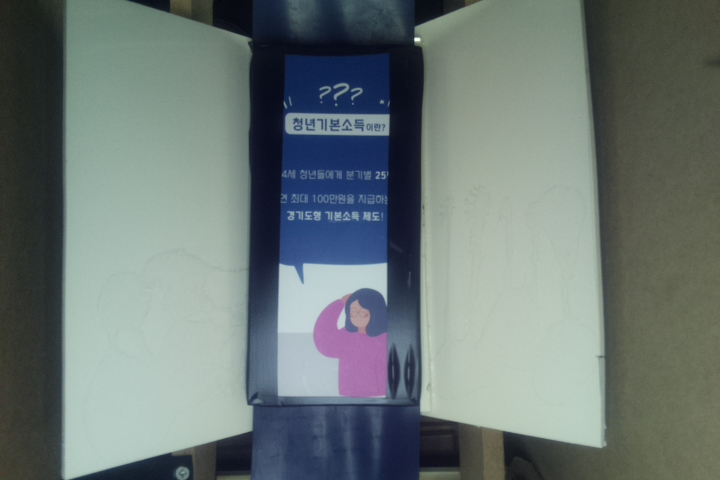book: (247, 44, 427, 406)
